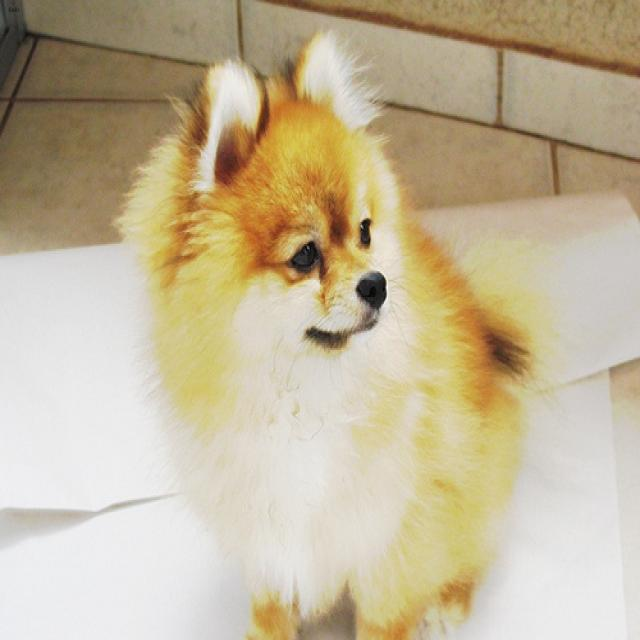dog-pomeranian: (106, 20, 561, 637)
